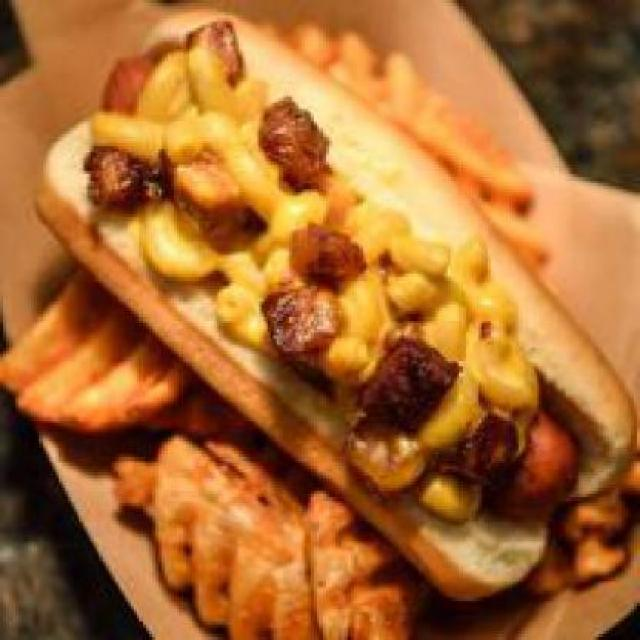hot dog: (488, 398, 594, 519), (94, 40, 158, 109)
macaroni and cheese: (133, 80, 495, 475)
